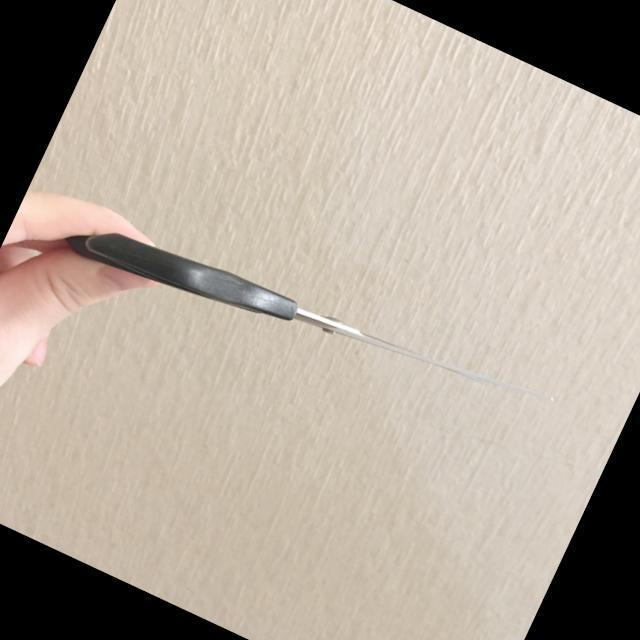scissors: (71, 183, 558, 460)
